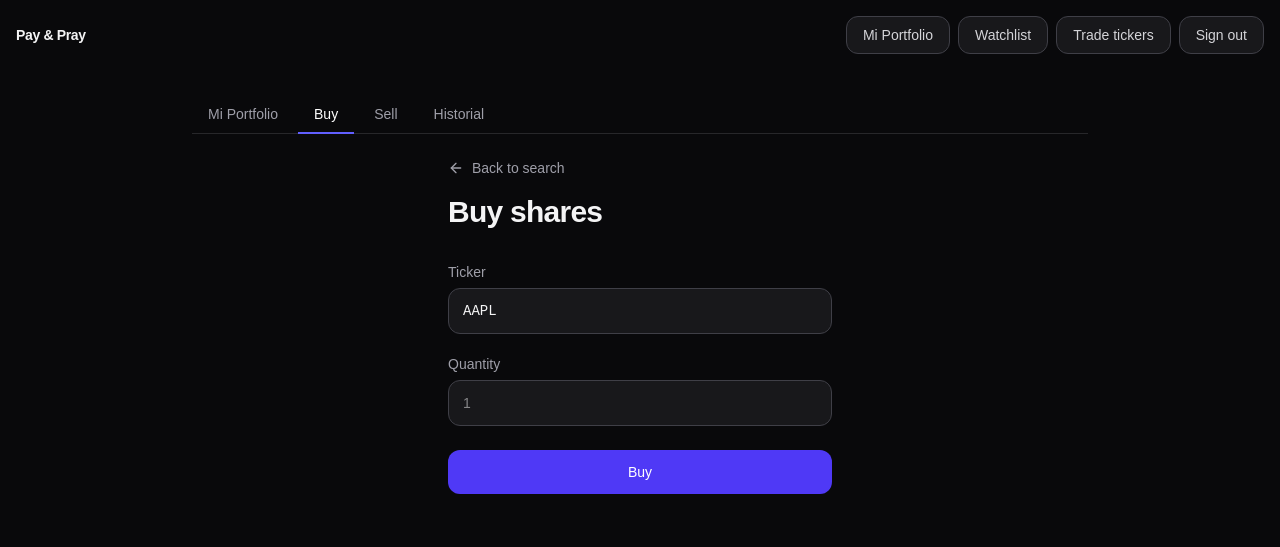
Test case: Portfolio trade forms › submits a buy form against the backend contract
The width and height of the screenshot is (1280, 547).
Expected: the field with id "ticker" holds "AAPL", x1=448 y1=288 x2=832 y2=334
Type "3" into the number field labelled "Quantity".
click(640, 403); type("3")  # box x1=448 y1=380 x2=832 y2=426
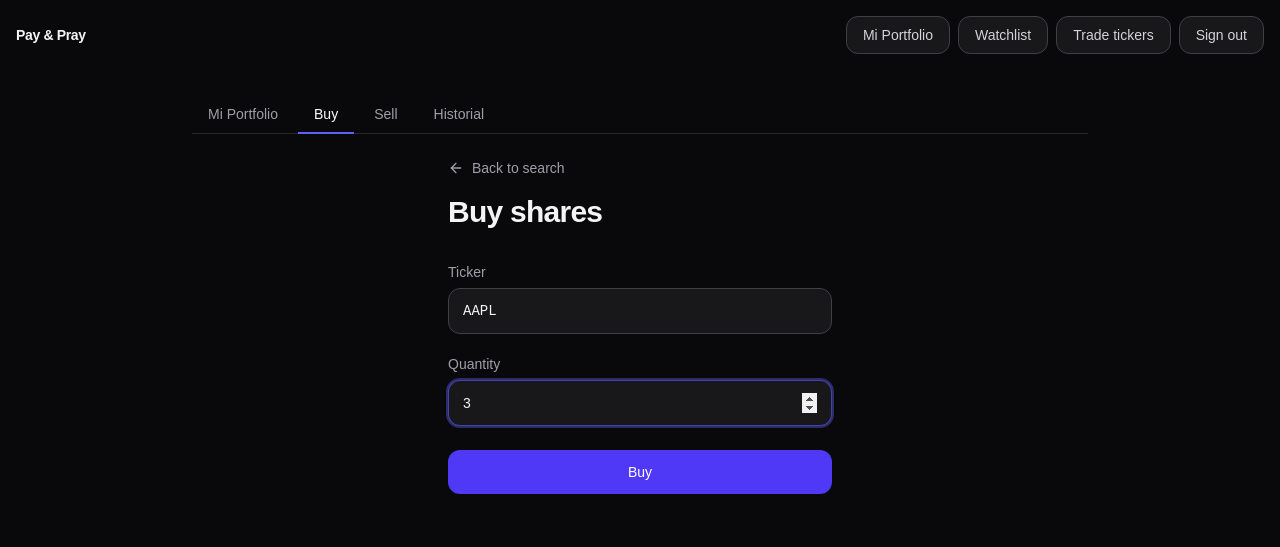
Click the button "Buy".
click(640, 472)  # box x1=448 y1=450 x2=832 y2=494
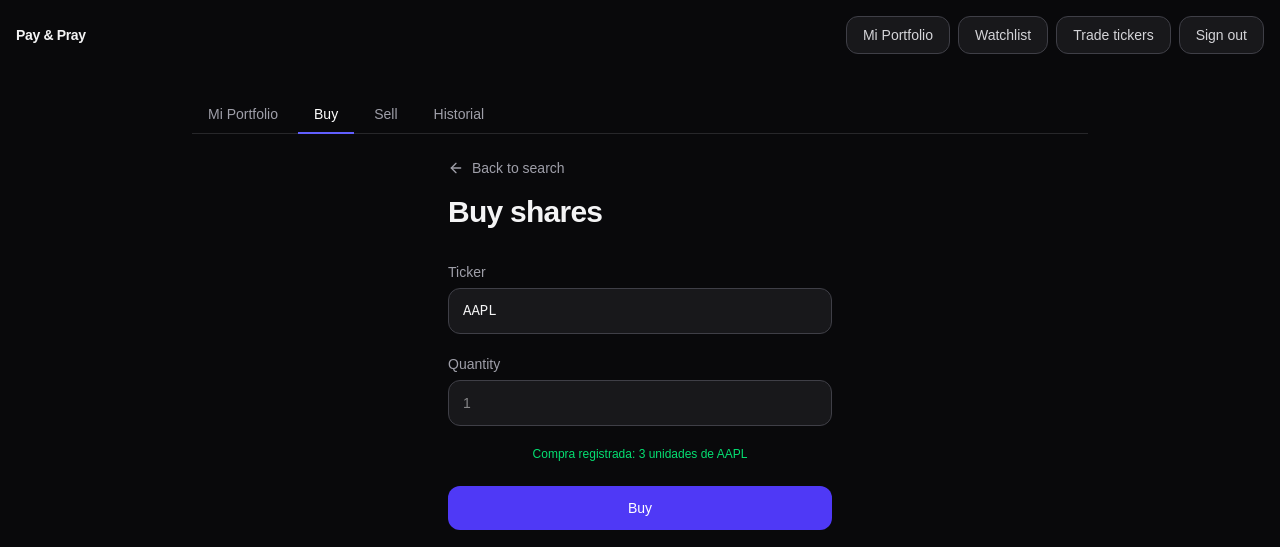
Now the text "Compra registrada: 3 unidades de AAPL" is shown, box x1=533 y1=447 x2=747 y2=461
